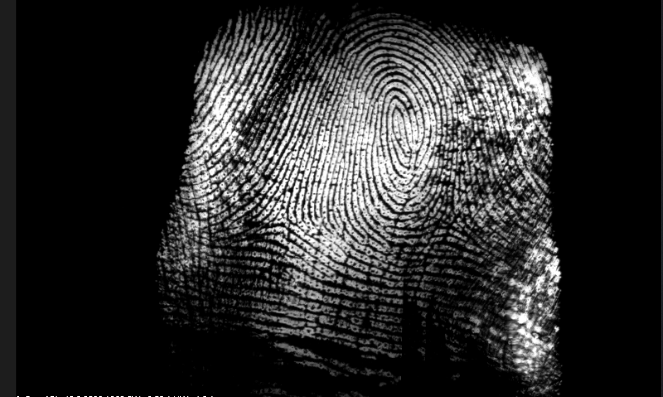nucelo: (379, 83, 415, 133)
verticilo: (266, 202, 295, 228), (440, 204, 461, 229)
